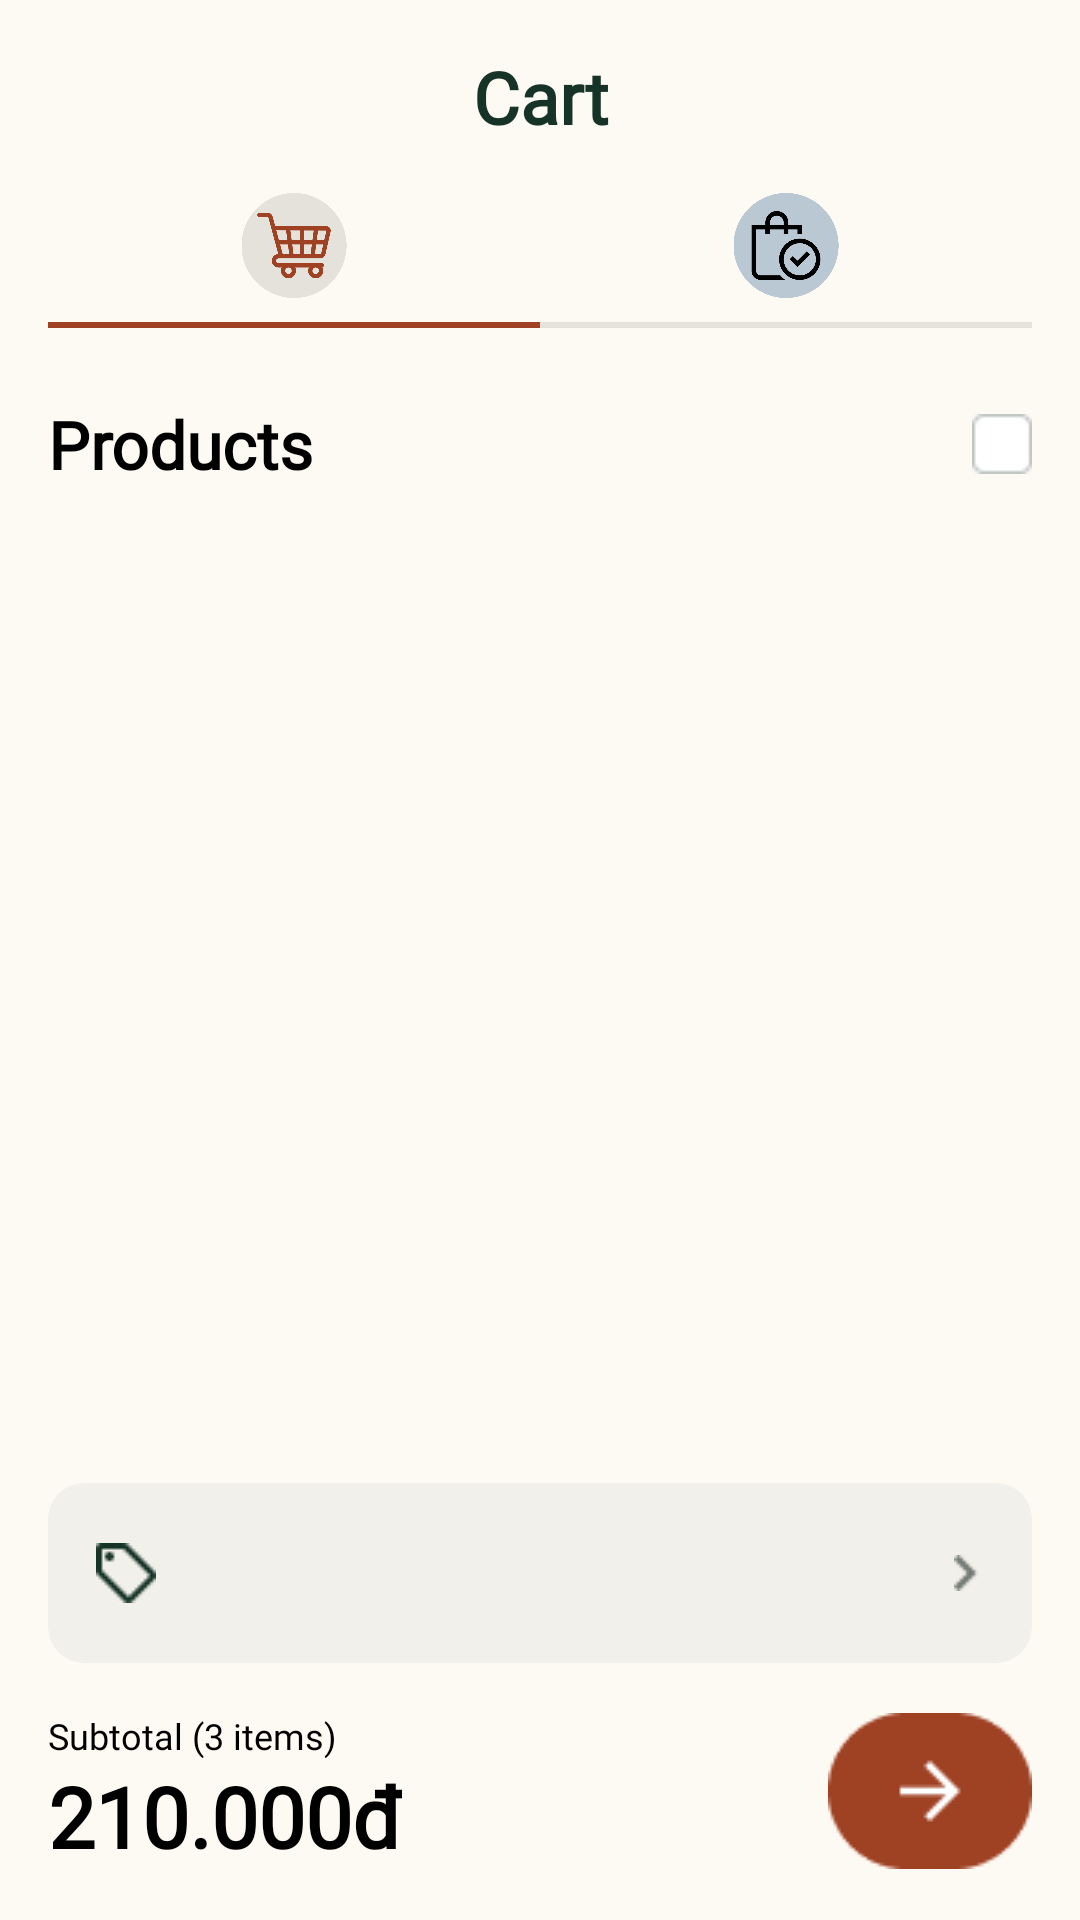

Icons on this 1080 × 1920 Android screen, each with the point to tap as [x,y]:
confirm off: [786,245]
next: [930,1791]
select all: [1002,444]
tag: [126,1573]
